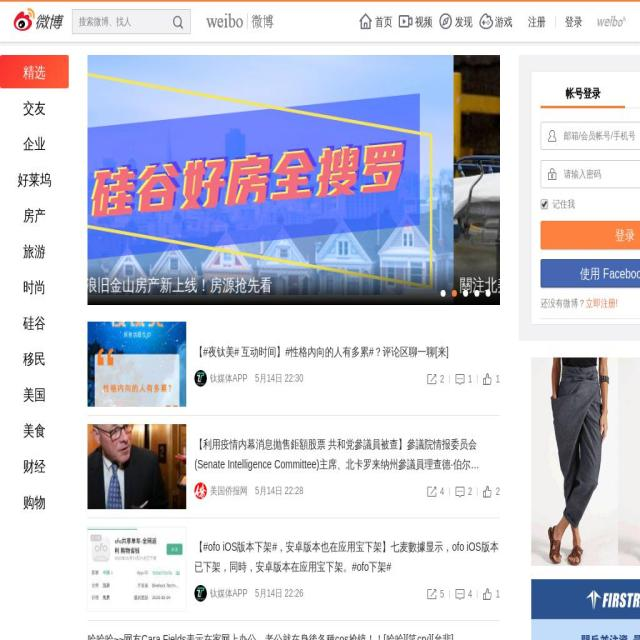button: (88, 296, 500, 307), (540, 220, 640, 249), (540, 259, 640, 287), (0, 162, 69, 196), (0, 198, 69, 232), (0, 234, 69, 268), (0, 377, 69, 411), (0, 413, 69, 447), (0, 449, 69, 483), (0, 55, 69, 88), (0, 91, 69, 124), (0, 127, 69, 160), (0, 270, 69, 303), (0, 306, 69, 339), (0, 342, 69, 375), (0, 485, 69, 518), (541, 81, 625, 108), (500, 296, 640, 307), (0, 296, 88, 307), (358, 11, 392, 32), (398, 11, 432, 32), (438, 11, 472, 32), (478, 11, 512, 32), (625, 81, 640, 108), (172, 13, 184, 32)
field: (72, 10, 190, 33), (562, 124, 640, 148), (562, 162, 640, 186), (540, 198, 548, 210)
heading: (194, 434, 500, 474), (194, 536, 500, 576), (194, 342, 500, 362), (88, 629, 500, 640)
iframe: (531, 357, 640, 566), (531, 579, 640, 640)
image: (88, 55, 500, 305), (500, 55, 640, 305), (0, 55, 88, 305), (88, 298, 186, 430), (88, 503, 186, 635), (88, 424, 186, 509), (400, 634, 500, 640), (296, 634, 395, 640), (88, 634, 186, 640), (192, 634, 290, 640), (194, 370, 207, 387), (194, 585, 207, 602), (194, 483, 207, 499), (452, 290, 457, 297)
link: (375, 11, 393, 32), (415, 11, 433, 32), (455, 11, 473, 32), (495, 11, 513, 32), (586, 298, 618, 309), (359, 11, 375, 32), (399, 11, 415, 32), (439, 11, 455, 32), (479, 11, 495, 32), (528, 15, 546, 28), (565, 15, 583, 28)
text: (88, 265, 500, 305), (500, 265, 640, 305), (0, 265, 88, 305), (72, 10, 190, 33), (255, 370, 304, 387), (255, 585, 304, 602), (255, 483, 304, 499), (210, 370, 248, 387), (210, 585, 248, 602), (210, 483, 248, 499), (540, 298, 586, 309), (564, 168, 601, 181), (553, 198, 575, 211), (615, 228, 635, 242), (454, 370, 465, 388), (426, 370, 437, 388), (454, 482, 465, 500), (426, 482, 437, 500), (454, 585, 465, 603), (426, 585, 437, 603), (483, 370, 493, 388), (483, 482, 493, 500), (483, 585, 493, 603), (467, 373, 472, 385), (467, 485, 472, 497), (467, 588, 472, 600), (496, 373, 500, 385), (440, 373, 444, 385), (496, 485, 500, 497), (440, 485, 444, 497), (496, 588, 500, 600), (440, 588, 444, 600)
